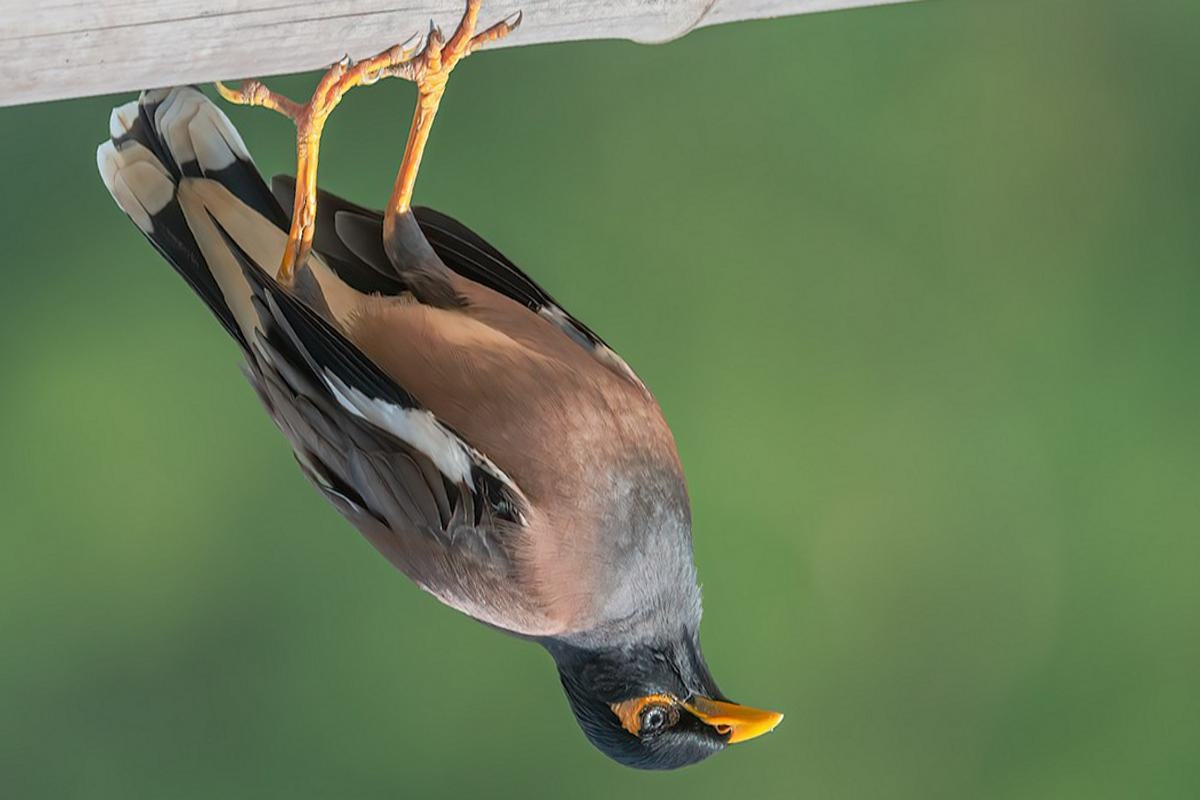myna: (121, 61, 797, 768)
